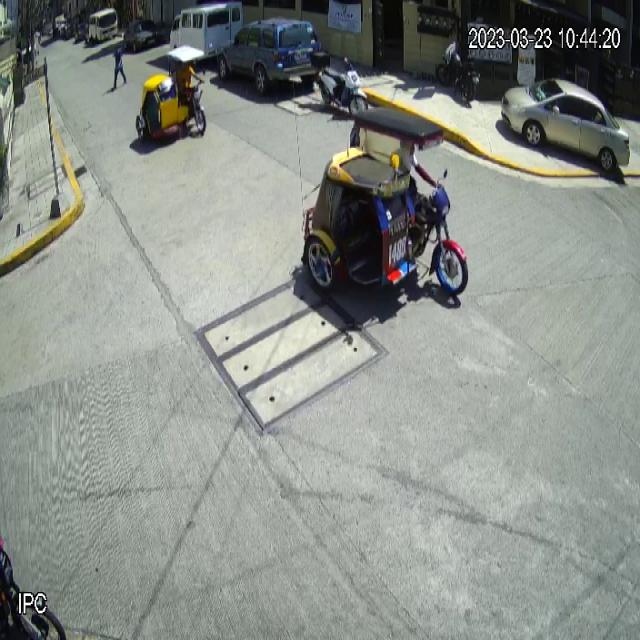Car: (500, 78, 630, 174), (218, 15, 322, 96)
Motorcycle: (310, 50, 369, 117)
Tricycle: (301, 102, 469, 300), (135, 45, 207, 142)
Van: (169, 2, 244, 68)
